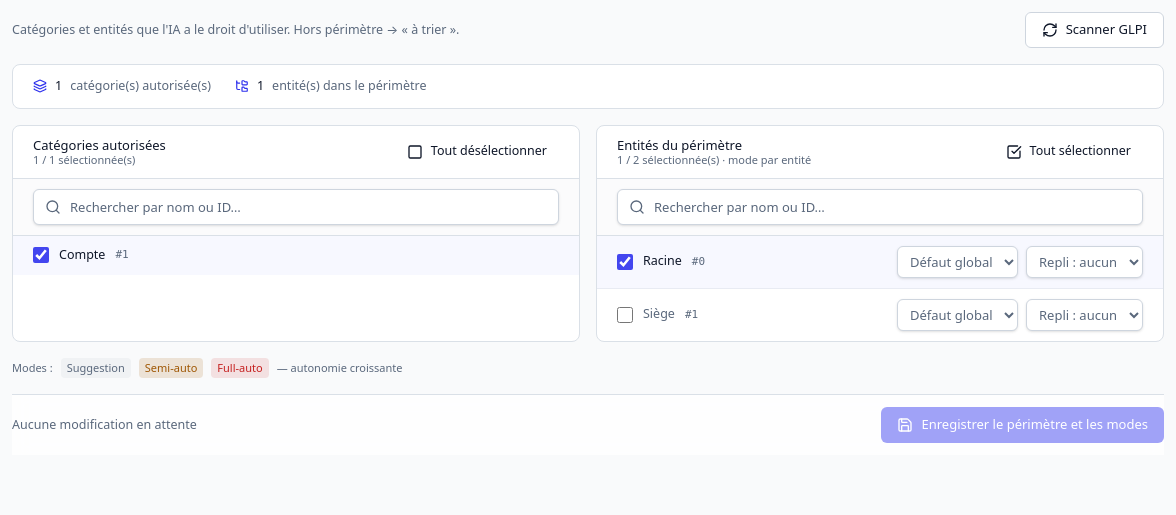
Test: Scope — périmètre & modes › affiche l'avertissement quand une entité passe en full-auto
The width and height of the screenshot is (1176, 515).
Select "Full-auto" in the dropdown named "Mode pour Racine" at (958, 262), box [897, 246, 1018, 278]
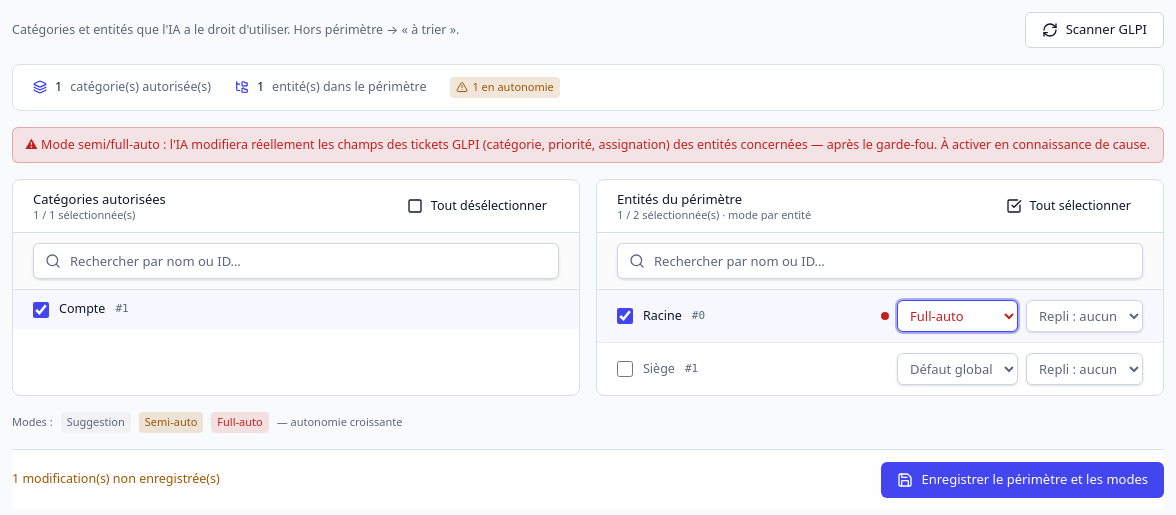
Expected: the text "modifiera réellement les champs des tickets GLPI" is shown, [25, 136, 1150, 152]
